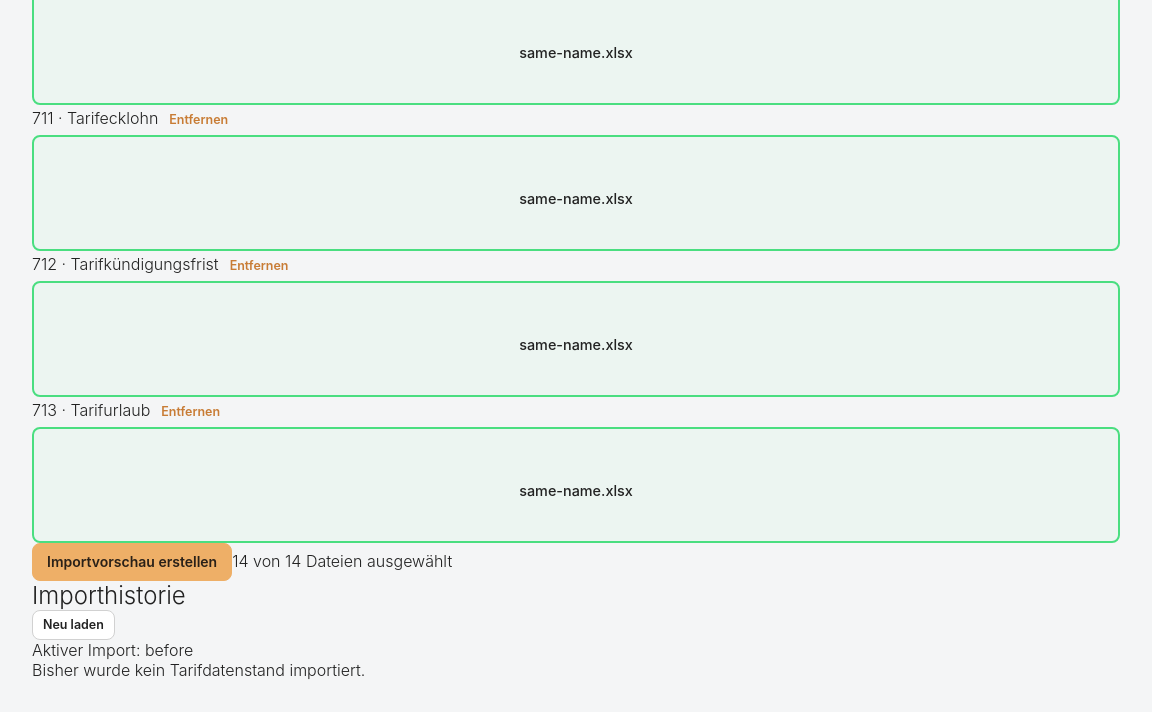
TariffImport › shows preserved ÜTZ history and blocks a stale merged preview
(page scrolled)
Click the button "Importvorschau erstellen".
click(132, 562)  # box [32, 543, 232, 581]
(page scrolled)
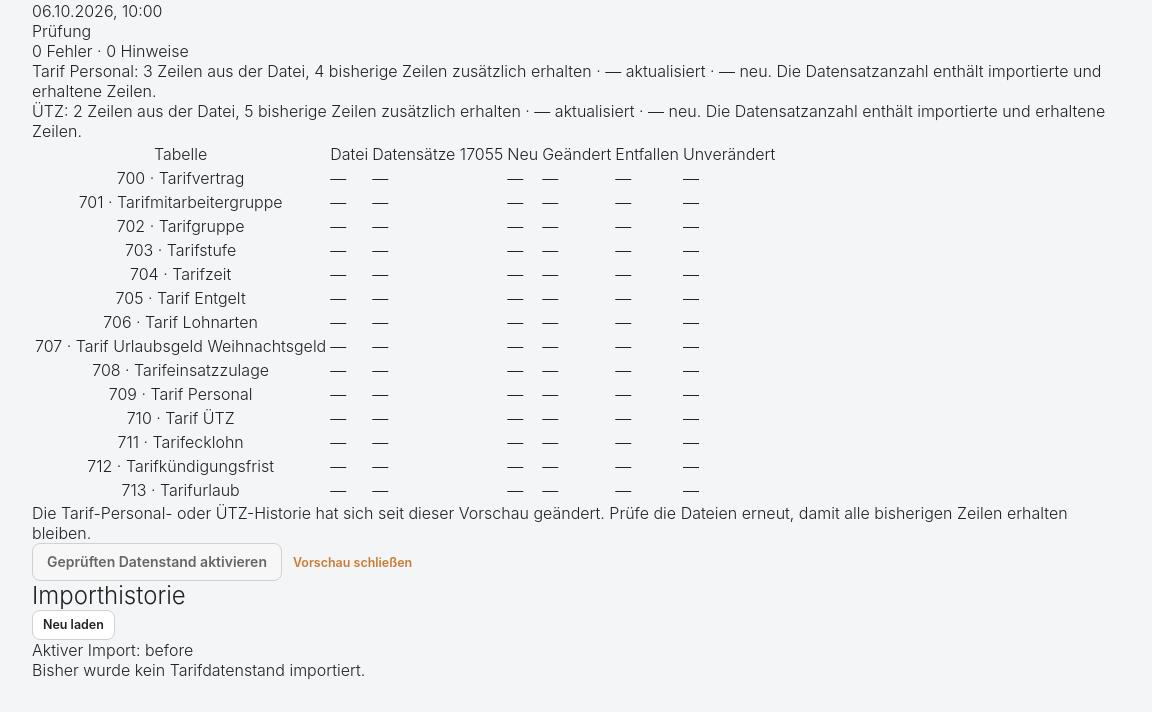
Now the text "2 Zeilen aus der Datei, 5 bisherige Zeilen zusätzlich erhalten" is shown, box [32, 101, 1105, 141]
Now the text "3 Zeilen aus der Datei, 4 bisherige Zeilen zusätzlich erhalten" is shown, box [32, 61, 1102, 101]
Now the text "— aktualisiert · — neu" is shown, box [32, 61, 1102, 101]
